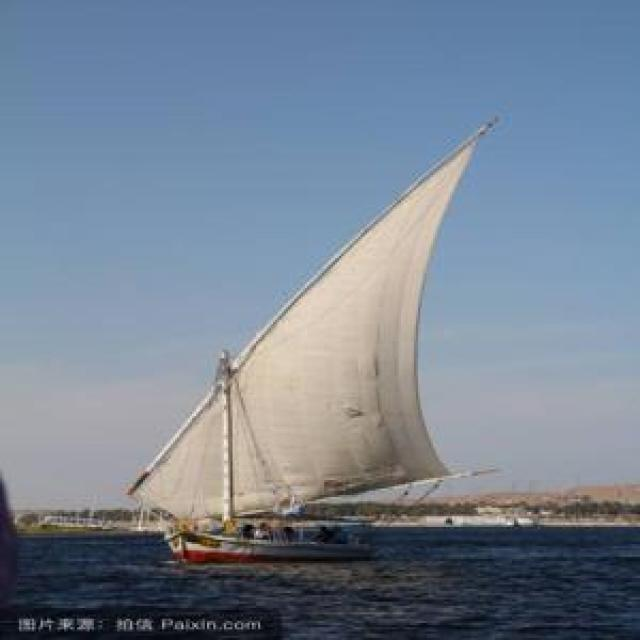sailboat: (138, 116, 491, 560)
